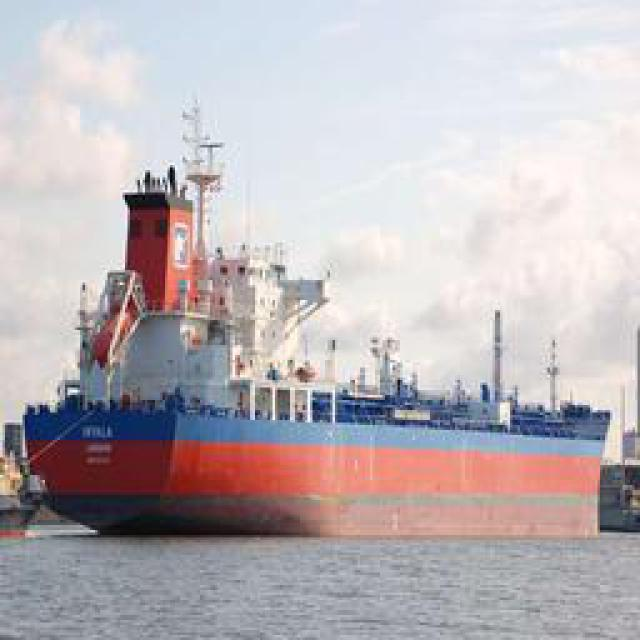Ship: (20, 170, 620, 538)
